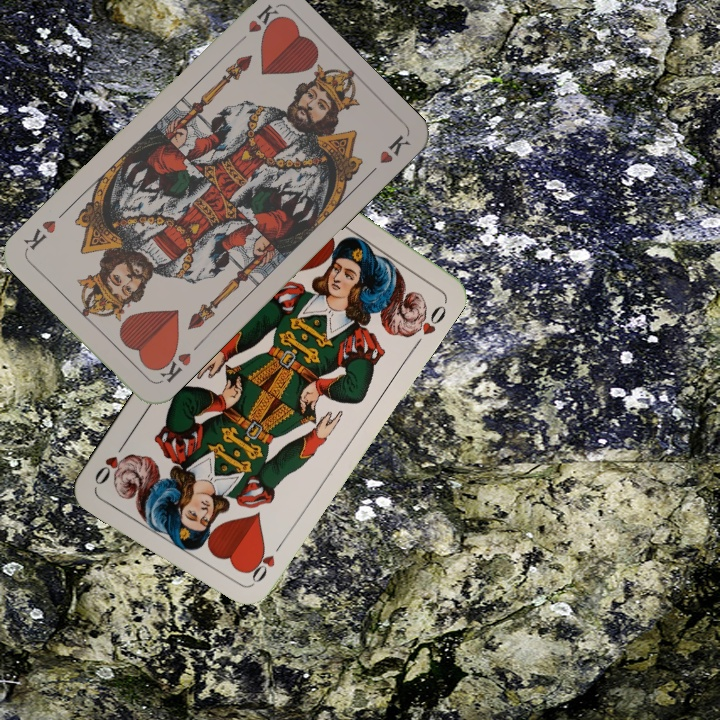HK: (230, 1, 281, 48), (151, 344, 194, 385)
HO: (244, 544, 278, 590)
